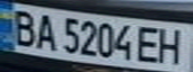0: (97, 20, 118, 60)
2: (78, 17, 100, 57)
4: (112, 21, 139, 61)
5: (57, 15, 81, 54)
A: (30, 11, 60, 51)
B: (6, 7, 39, 48)
E: (133, 24, 163, 64)
H: (154, 25, 190, 65)
